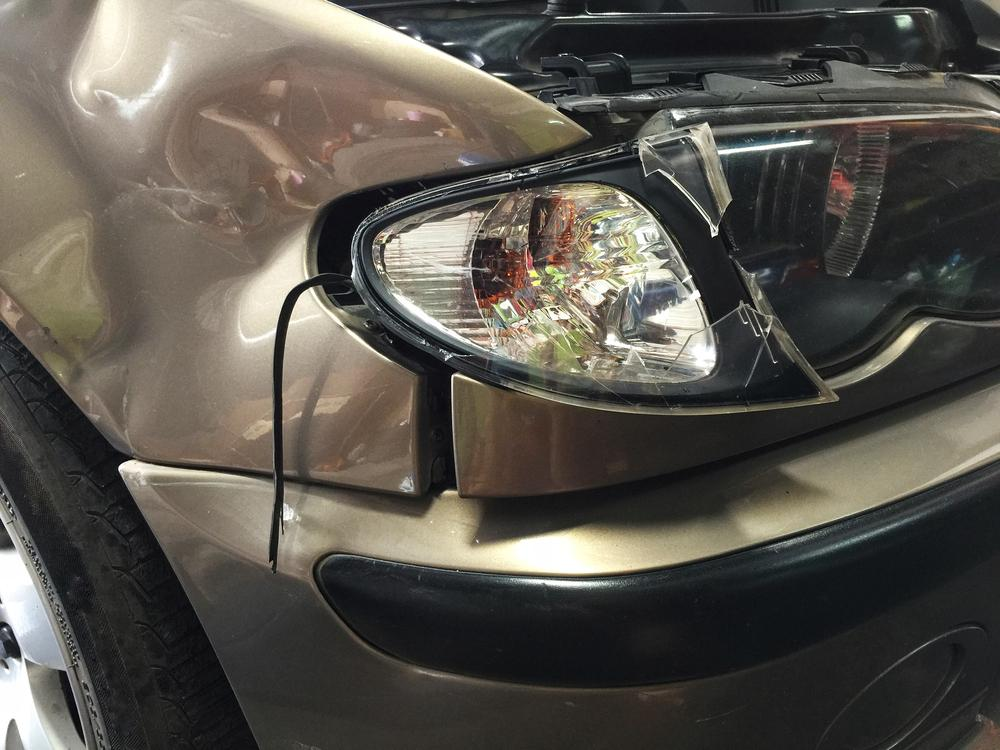dent: (0, 0, 519, 435)
lamp broken: (359, 119, 840, 411)
